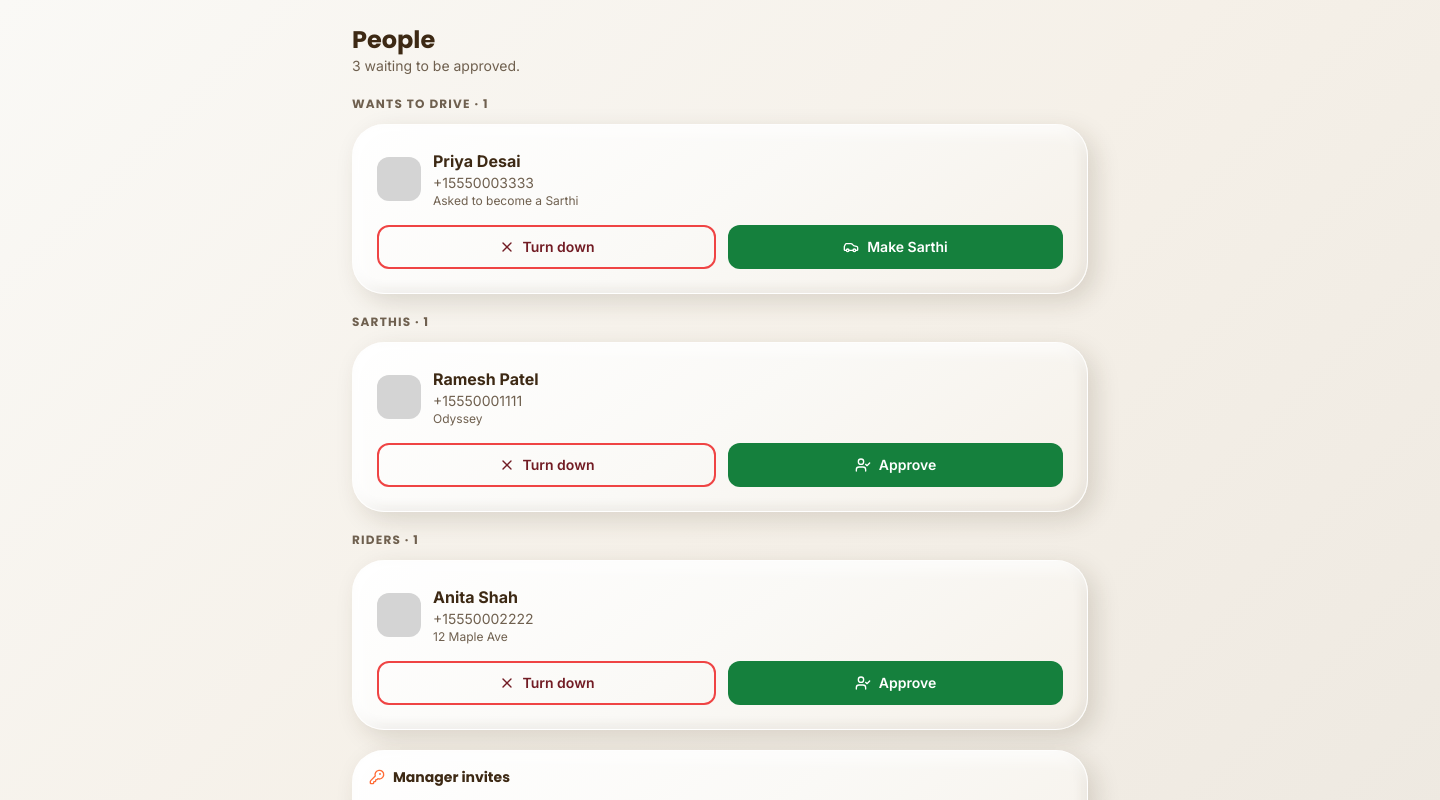
Scenario: ManagerPeople — requests to become a Sarthi › asks before turning somebody down
Click the button "Turn down" below "Asked to become a Sarthi" at (546, 247), box x1=377 y1=225 x2=716 y2=269
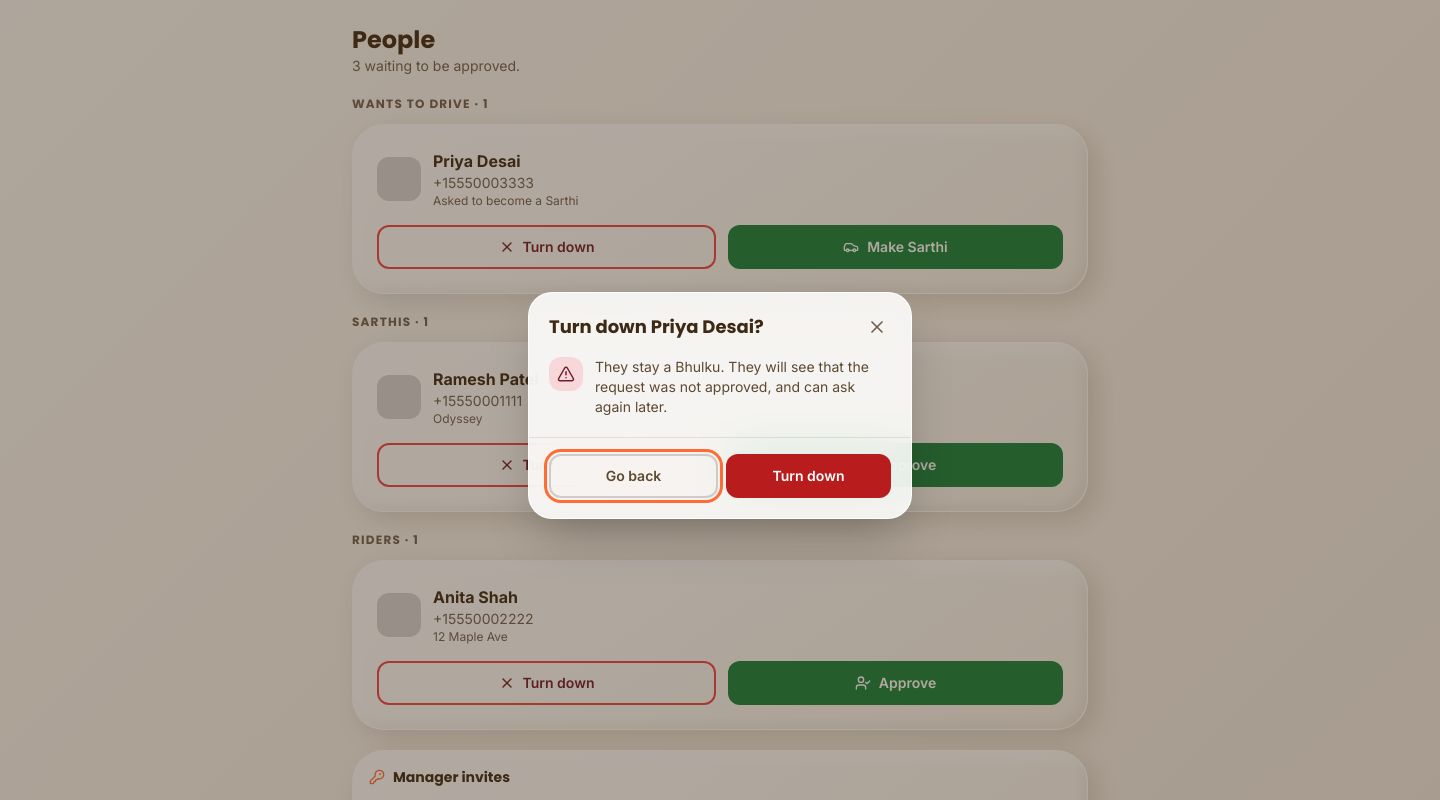
Expected: the heading "Turn down Priya Desai?" is shown, x1=549 y1=312 x2=764 y2=340
